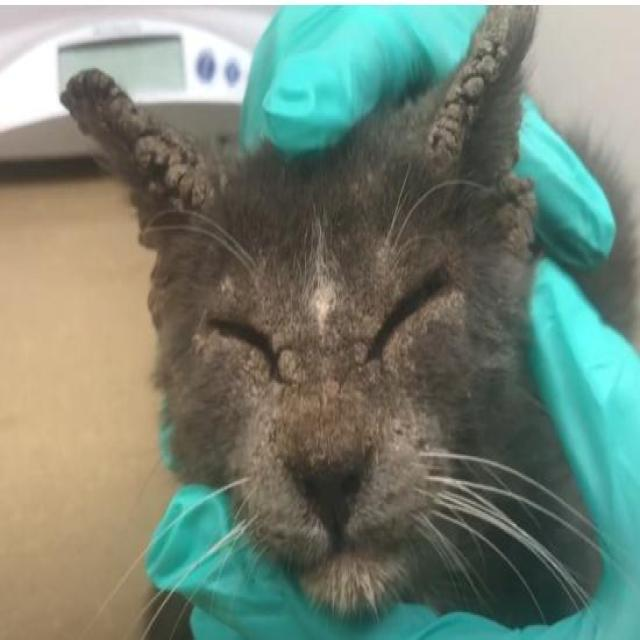ghe: (86, 79, 216, 257), (425, 44, 500, 204)
